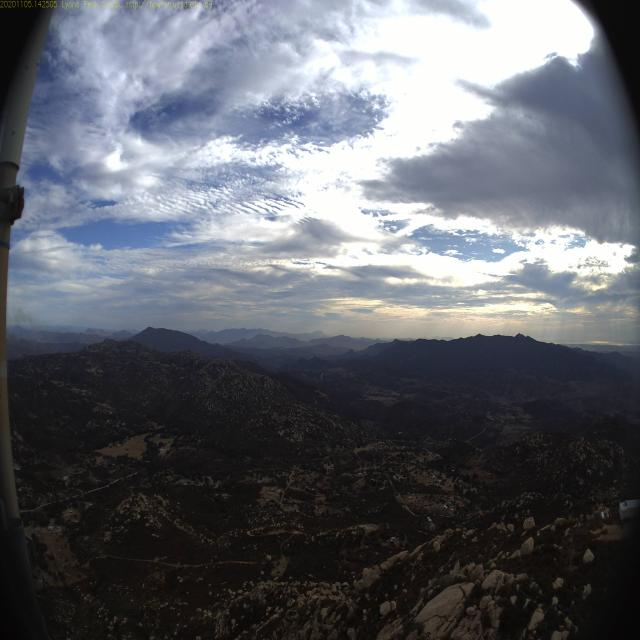smoke: (5, 307, 49, 348)
